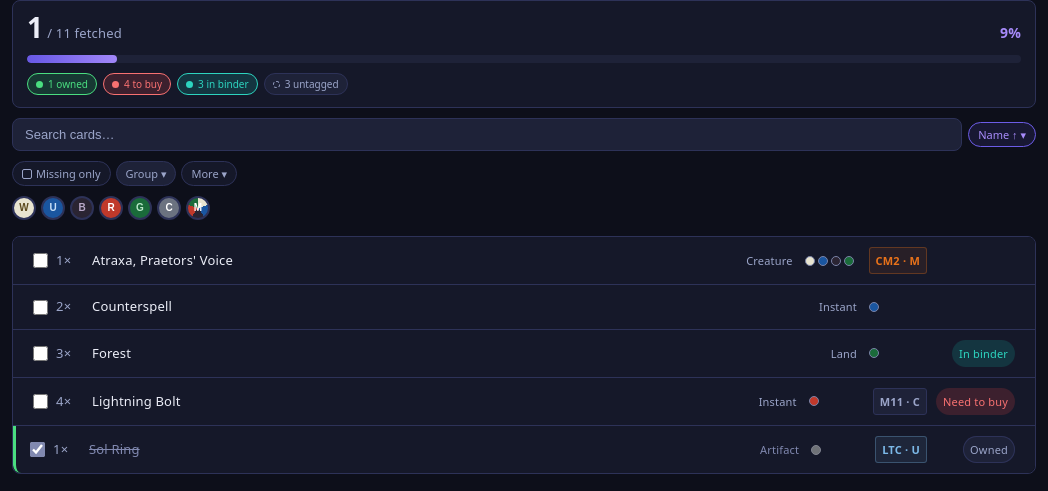
Scenario: Checklist — filtering, sorting, grouping › Missing only hides acquired cards
What coordinates should you click on to do the following:
click the button "Missing only"
I would click on:
 (61, 174)
Its box is x1=12 y1=161 x2=110 y2=186.
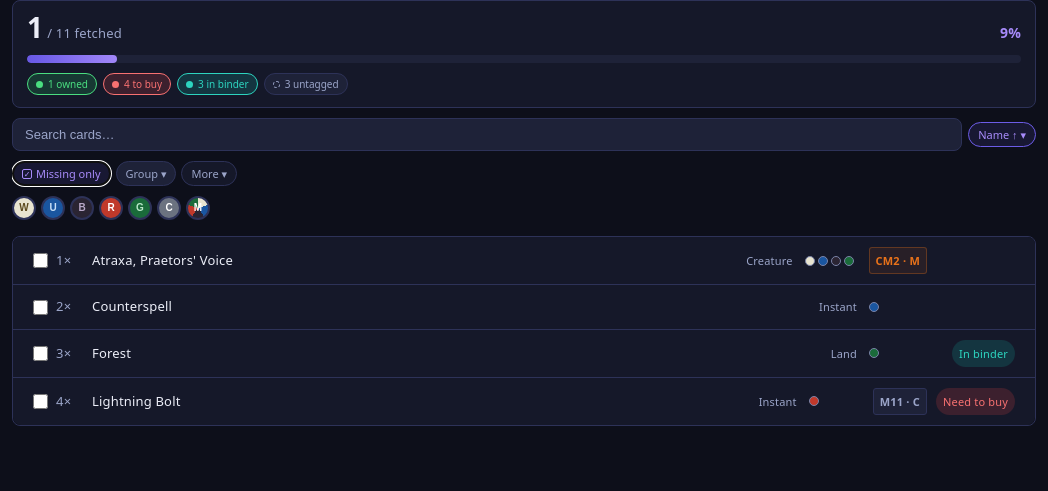
Expected: the text "Sol Ring" is gone
